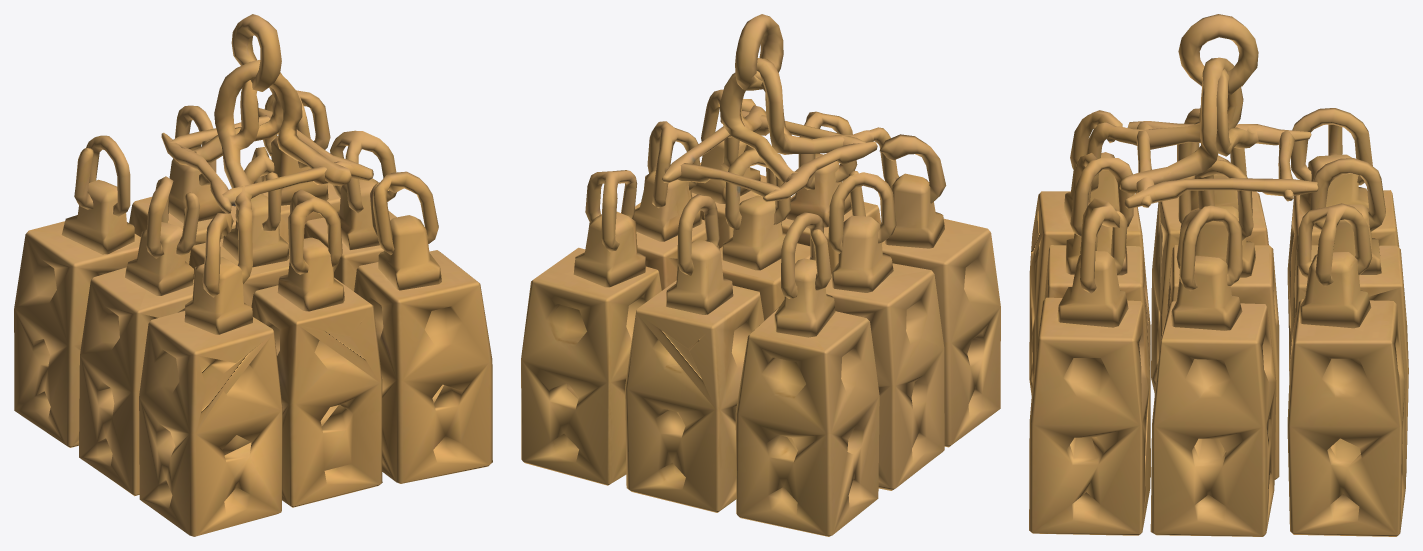
Rendered from weights-set.glb.
The picture shows the model from 3 angles, left to right: view 1: azimuth 30°, elevation 25°; view 2: azimuth 150°, elevation 25°; view 3: azimuth 270°, elevation 25°; orthographic projection. The views are drawn at different scales.
Bounding box in the file's own units: 0.7417 × 0.9526 × 0.7378.
Materials: 1 (1 with a texture image).
